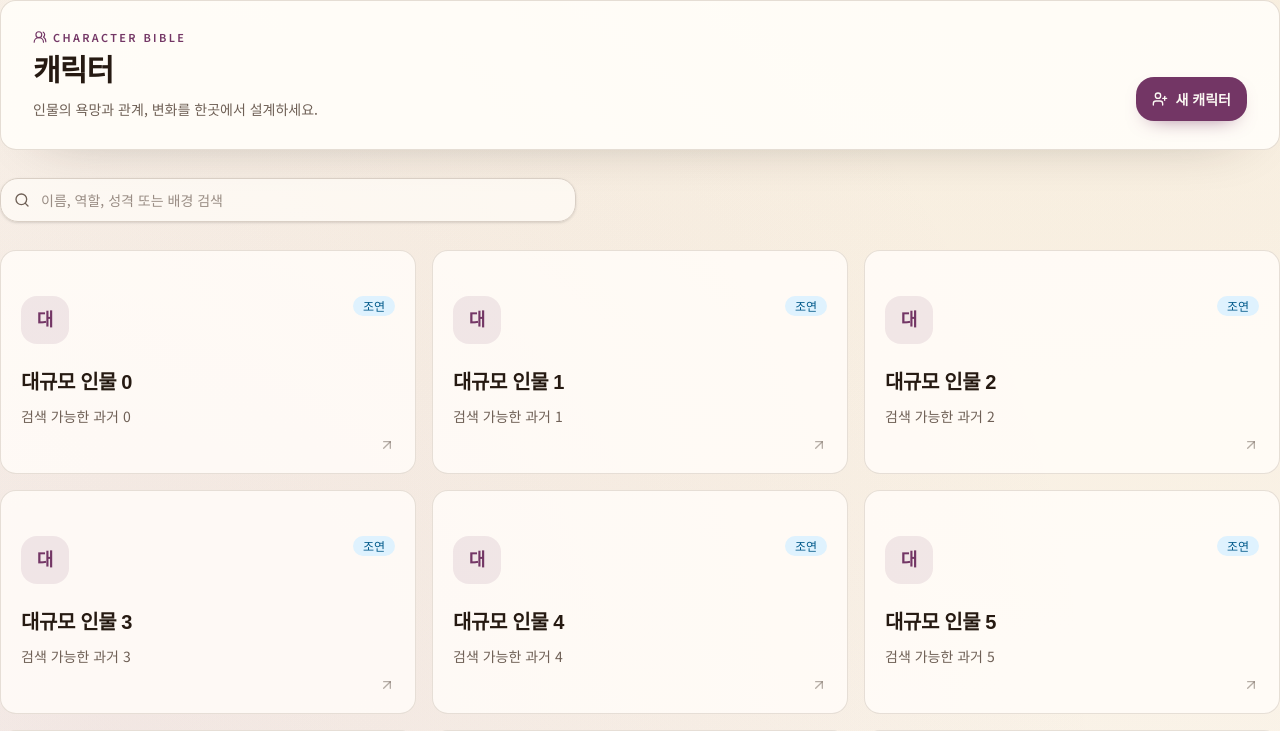
CharacterList large character bibles › bounds rendered cards while retaining full-list search
Step 1. Type "목록 밖의 특별한 성격" into the search field named "캐릭터 검색" → (288,200), box [0, 178, 576, 222]
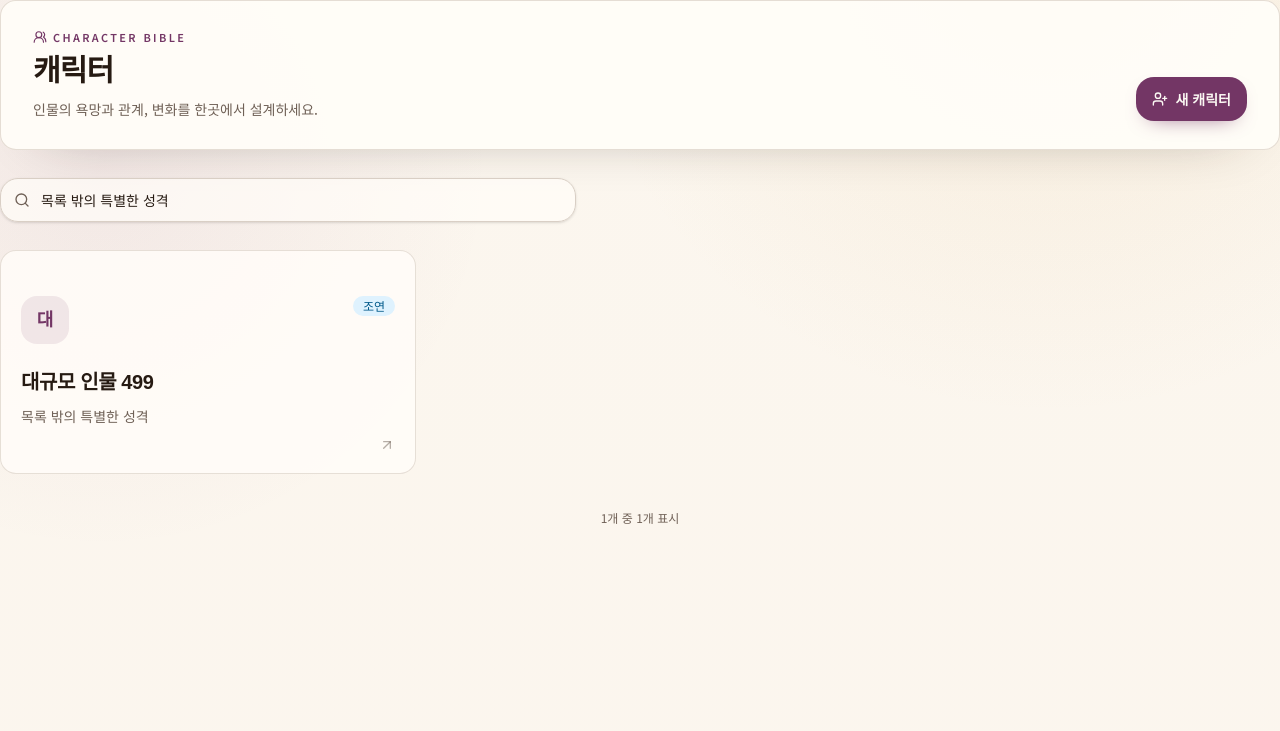
expect the number of buttons "대 조연 대규모 인물 499 목록 밖의 특별한 성격" is 1: met, box [0, 250, 416, 474]
